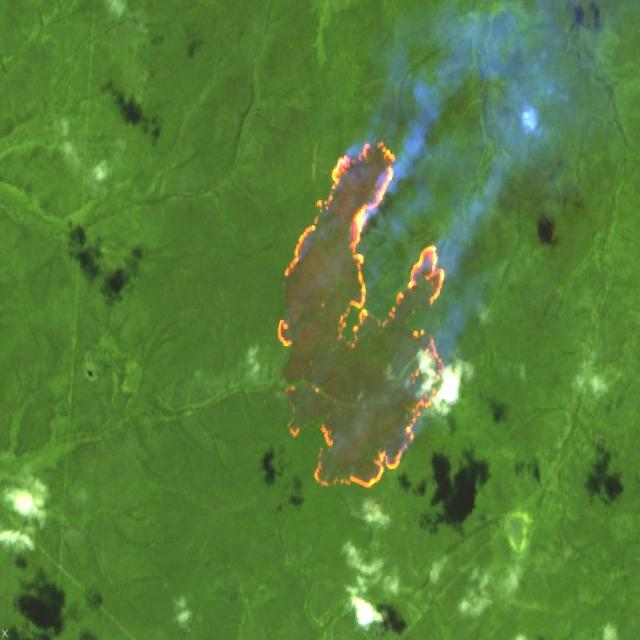fire: (261, 123, 453, 518)
